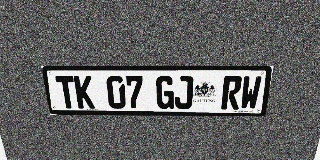0: (106, 76, 126, 109)
7: (125, 76, 144, 109)
G: (156, 76, 174, 109)
J: (174, 76, 193, 109)
K: (74, 76, 95, 109)
R: (221, 76, 243, 109)
T: (55, 76, 77, 109)
W: (239, 76, 262, 110)
